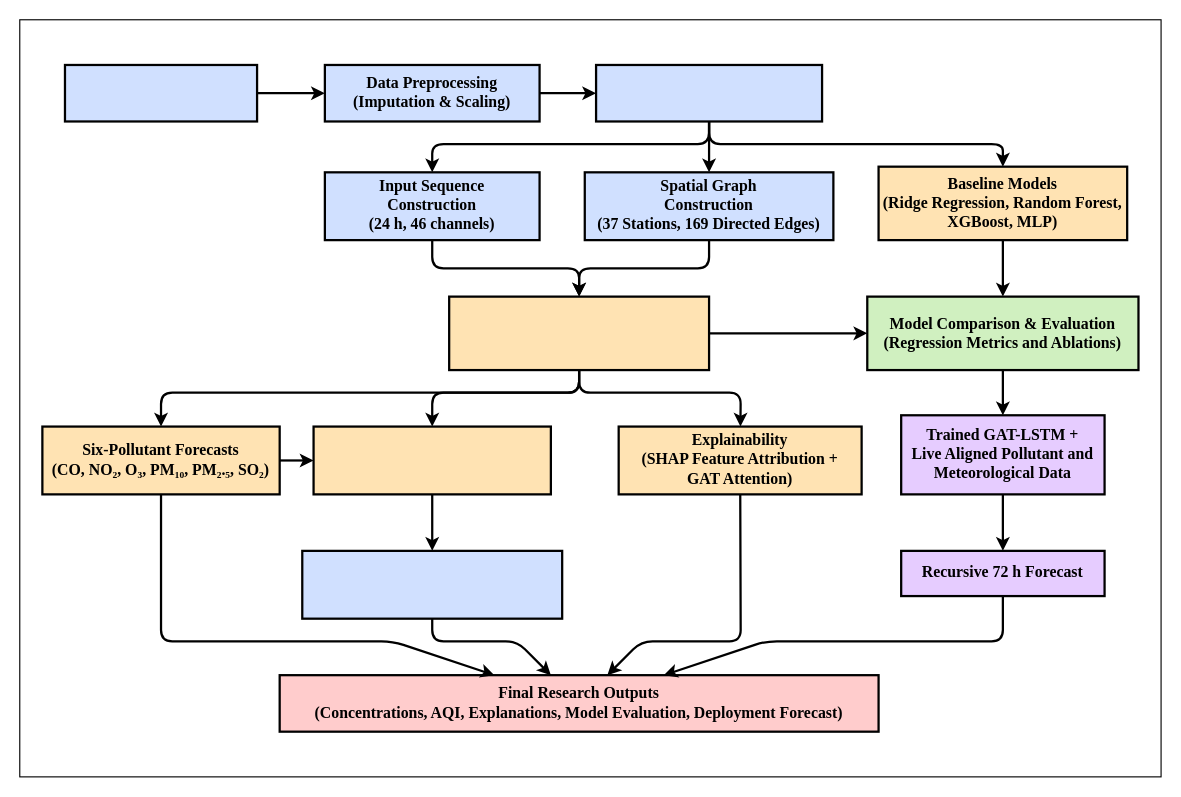
This 1181x797 diagram has some shape labels left out. The centre of each missing label's shape, as x and y in pixels:
"AQI Derivation (CPCB Breakpoint Rules)" belongs at [431,460].
"AQI Output (Numerical AQI, Dominant Pollutant, AQI Category)" belongs at [432,584].
"Feature Engineering (Temporal & Met. Indices)" belongs at [708,92].
"Historical Data Acquisition" belongs at [160,92].
"Proposed Model GAT-LSTM (Spatial + Temporal)" belongs at [578,333].
